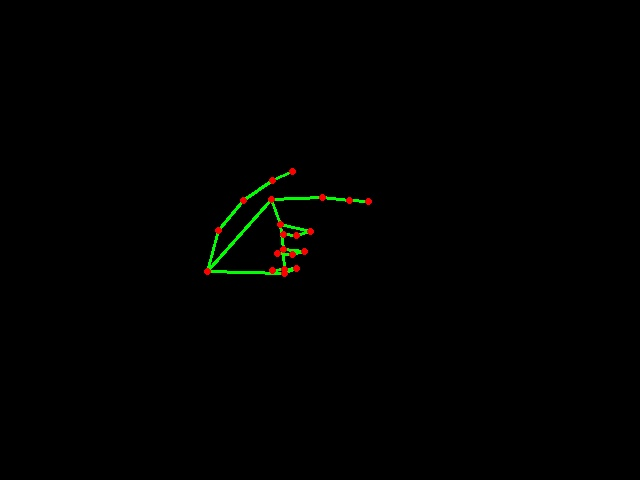left: (186, 147, 387, 298)
